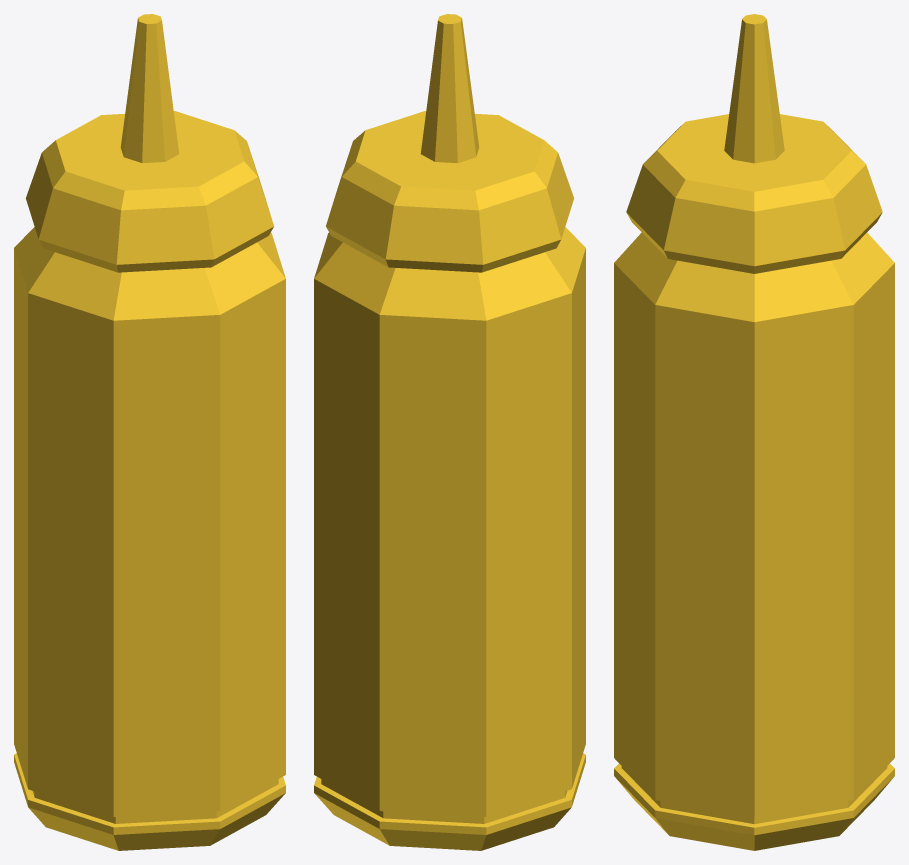
File: MustardBottle.obj
3 views of the same model, side by side, from view 1: azimuth 30°, elevation 25°; view 2: azimuth 150°, elevation 25°; view 3: azimuth 270°, elevation 25° (orthographic).
Visible parts, largest first — view 1: MustardBottle; view 2: MustardBottle; view 3: MustardBottle.
Boxes of the visible parts, left/top/right/bottom form: MustardBottle: left=14, top=14, right=285, bottom=850; MustardBottle: left=314, top=14, right=585, bottom=850; MustardBottle: left=614, top=14, right=894, bottom=850.
Bounding box in the file's own units: 0.4996 × 1.53 × 0.4996.
